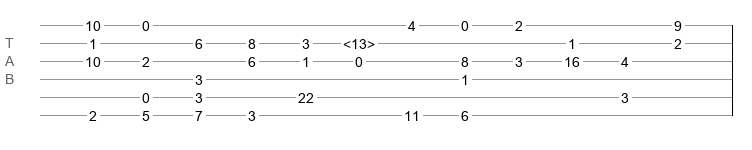0: (142, 90, 150, 100), (142, 18, 150, 28), (355, 54, 363, 64), (461, 18, 469, 28)
1: (89, 36, 97, 46), (302, 54, 310, 64), (461, 72, 469, 82), (568, 36, 576, 46)
10: (85, 54, 101, 64), (85, 18, 101, 28)
11: (404, 108, 420, 118)
16: (564, 54, 580, 64)
2: (89, 108, 97, 118), (142, 54, 150, 64), (515, 18, 523, 28), (674, 36, 682, 46)
22: (298, 90, 314, 100)
3: (195, 90, 203, 100), (195, 72, 203, 82), (248, 108, 256, 118), (302, 36, 310, 46), (515, 54, 523, 64), (621, 90, 629, 100)
4: (408, 18, 416, 28), (621, 54, 629, 64)
5: (142, 108, 150, 118)
6: (195, 36, 203, 46), (248, 54, 256, 64), (461, 108, 469, 118)
7: (195, 108, 203, 118)
8: (248, 36, 256, 46), (461, 54, 469, 64)
9: (674, 18, 682, 28)
harmonic: (343, 36, 375, 46)
